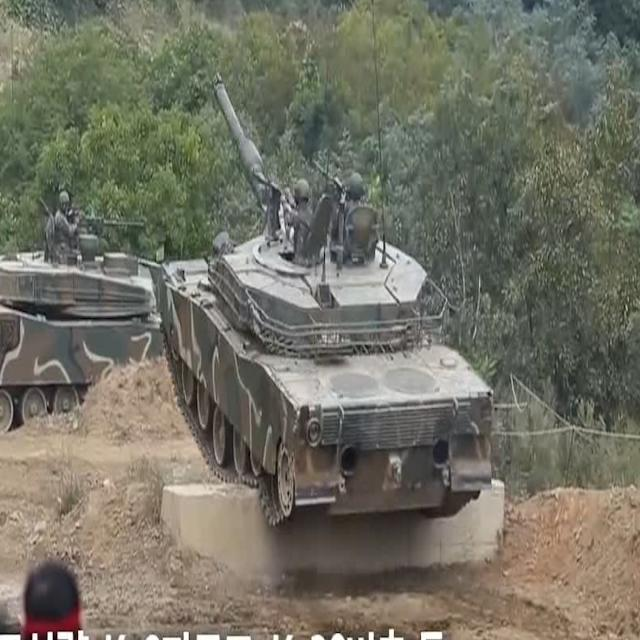korea tank: (158, 70, 494, 532)
